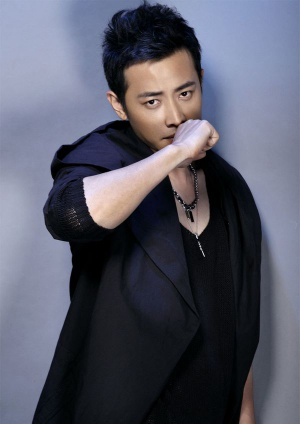male: (93, 6, 240, 165)
